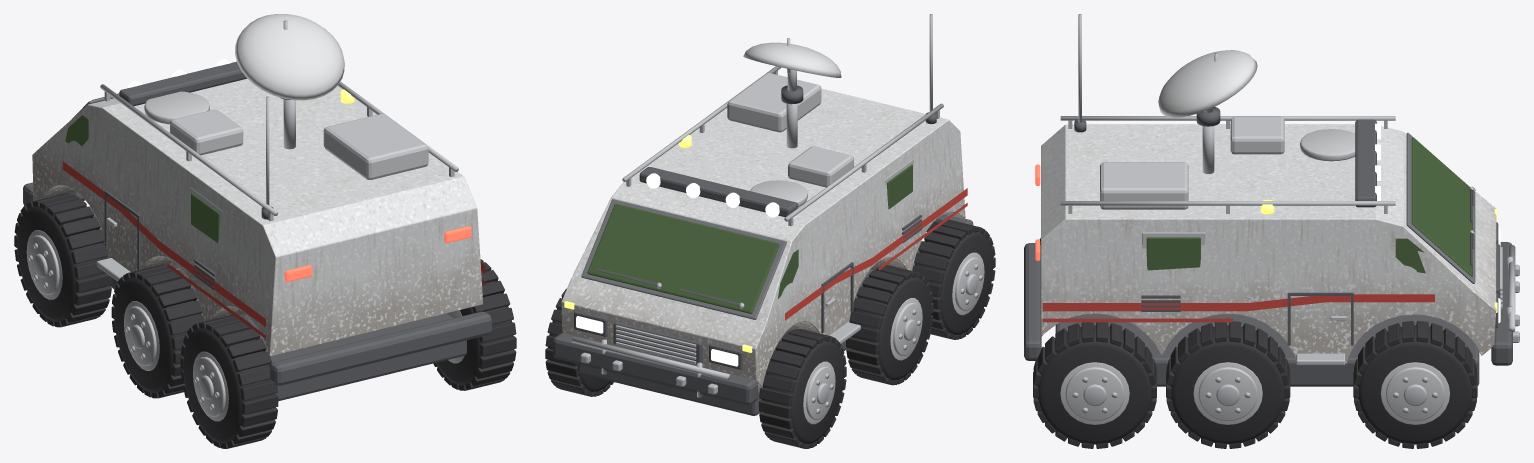
Rendered from survey_rover_mk2.glb.
3 renders of one model, left to right at view 1: azimuth 30°, elevation 25°; view 2: azimuth 150°, elevation 25°; view 3: azimuth 270°, elevation 25°, orthographic. The views are drawn at different scales.
Parts seen in each view (by area): view 1: Hull, DishBowl, RearBumper, Locker, Skirt, WheelRLTyre, WheelFLTyre, WheelMLTyre, LockerB, LightBar, Flash-1, WheelRRTyre (+11 smaller); view 2: Hull, Windscreen, FrontBumper, Locker, WheelFLTyre, WheelMLTyre, WheelRLTyre, WindscreenFrame, LightBar, DishBowl, Skirt, LockerB (+12 smaller); view 3: Hull, WheelRRTyre, WheelFRTyre, WheelMRTyre, Windscreen, Skirt, DishBowl, Locker, Flash1, LockerB, WheelRRDish, WheelMRDish (+17 smaller).
Boxes of the visible parts, bbox=[...] form: Hull: bbox=[32, 78, 482, 356]; DishBowl: bbox=[235, 14, 344, 100]; RearBumper: bbox=[269, 311, 491, 385]; Locker: bbox=[323, 113, 428, 179]; Skirt: bbox=[89, 206, 466, 401]; WheelRLTyre: bbox=[183, 328, 275, 443]; WheelFLTyre: bbox=[17, 206, 107, 321]; WheelMLTyre: bbox=[114, 277, 201, 392]; LockerB: bbox=[170, 109, 243, 155]; LightBar: bbox=[119, 61, 246, 106]; Flash-1: bbox=[62, 161, 265, 327]; WheelRRTyre: bbox=[436, 281, 513, 385]; Hull: bbox=[561, 88, 965, 386]; Windscreen: bbox=[587, 204, 779, 313]; FrontBumper: bbox=[553, 333, 757, 404]; Locker: bbox=[727, 73, 821, 132]; WheelFLTyre: bbox=[761, 340, 844, 443]; WheelMLTyre: bbox=[850, 277, 931, 380]; WheelRLTyre: bbox=[915, 231, 993, 334]; WindscreenFrame: bbox=[581, 199, 786, 319]; LightBar: bbox=[639, 167, 798, 217]; DishBowl: bbox=[743, 42, 841, 77]; Skirt: bbox=[578, 241, 921, 415]; LockerB: bbox=[788, 146, 853, 187]; Hull: bbox=[1041, 124, 1496, 363]; WheelRRTyre: bbox=[1036, 325, 1153, 444]; WheelFRTyre: bbox=[1357, 325, 1473, 444]; WheelMRTyre: bbox=[1170, 325, 1286, 444]; Windscreen: bbox=[1411, 137, 1472, 276]; Skirt: bbox=[1055, 314, 1479, 386]; DishBowl: bbox=[1158, 50, 1257, 117]; Locker: bbox=[1100, 162, 1188, 209]; Flash1: bbox=[1042, 294, 1434, 311]; LockerB: bbox=[1230, 116, 1284, 154]; WheelRRDish: bbox=[1065, 367, 1124, 421]; WheelMRDish: bbox=[1198, 367, 1257, 421].
Size of the model in its own units: 3.24 by 3.71 by 5.03.
Materials: 13 (1 with a texture image).
